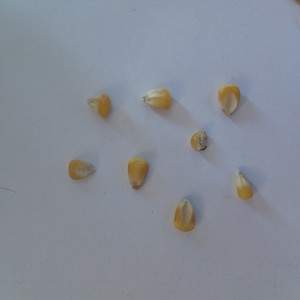maiz: (138, 84, 177, 116), (214, 81, 243, 118), (231, 163, 257, 202), (85, 90, 117, 121), (124, 156, 150, 194), (172, 196, 196, 235), (65, 157, 99, 184), (188, 129, 212, 154)
